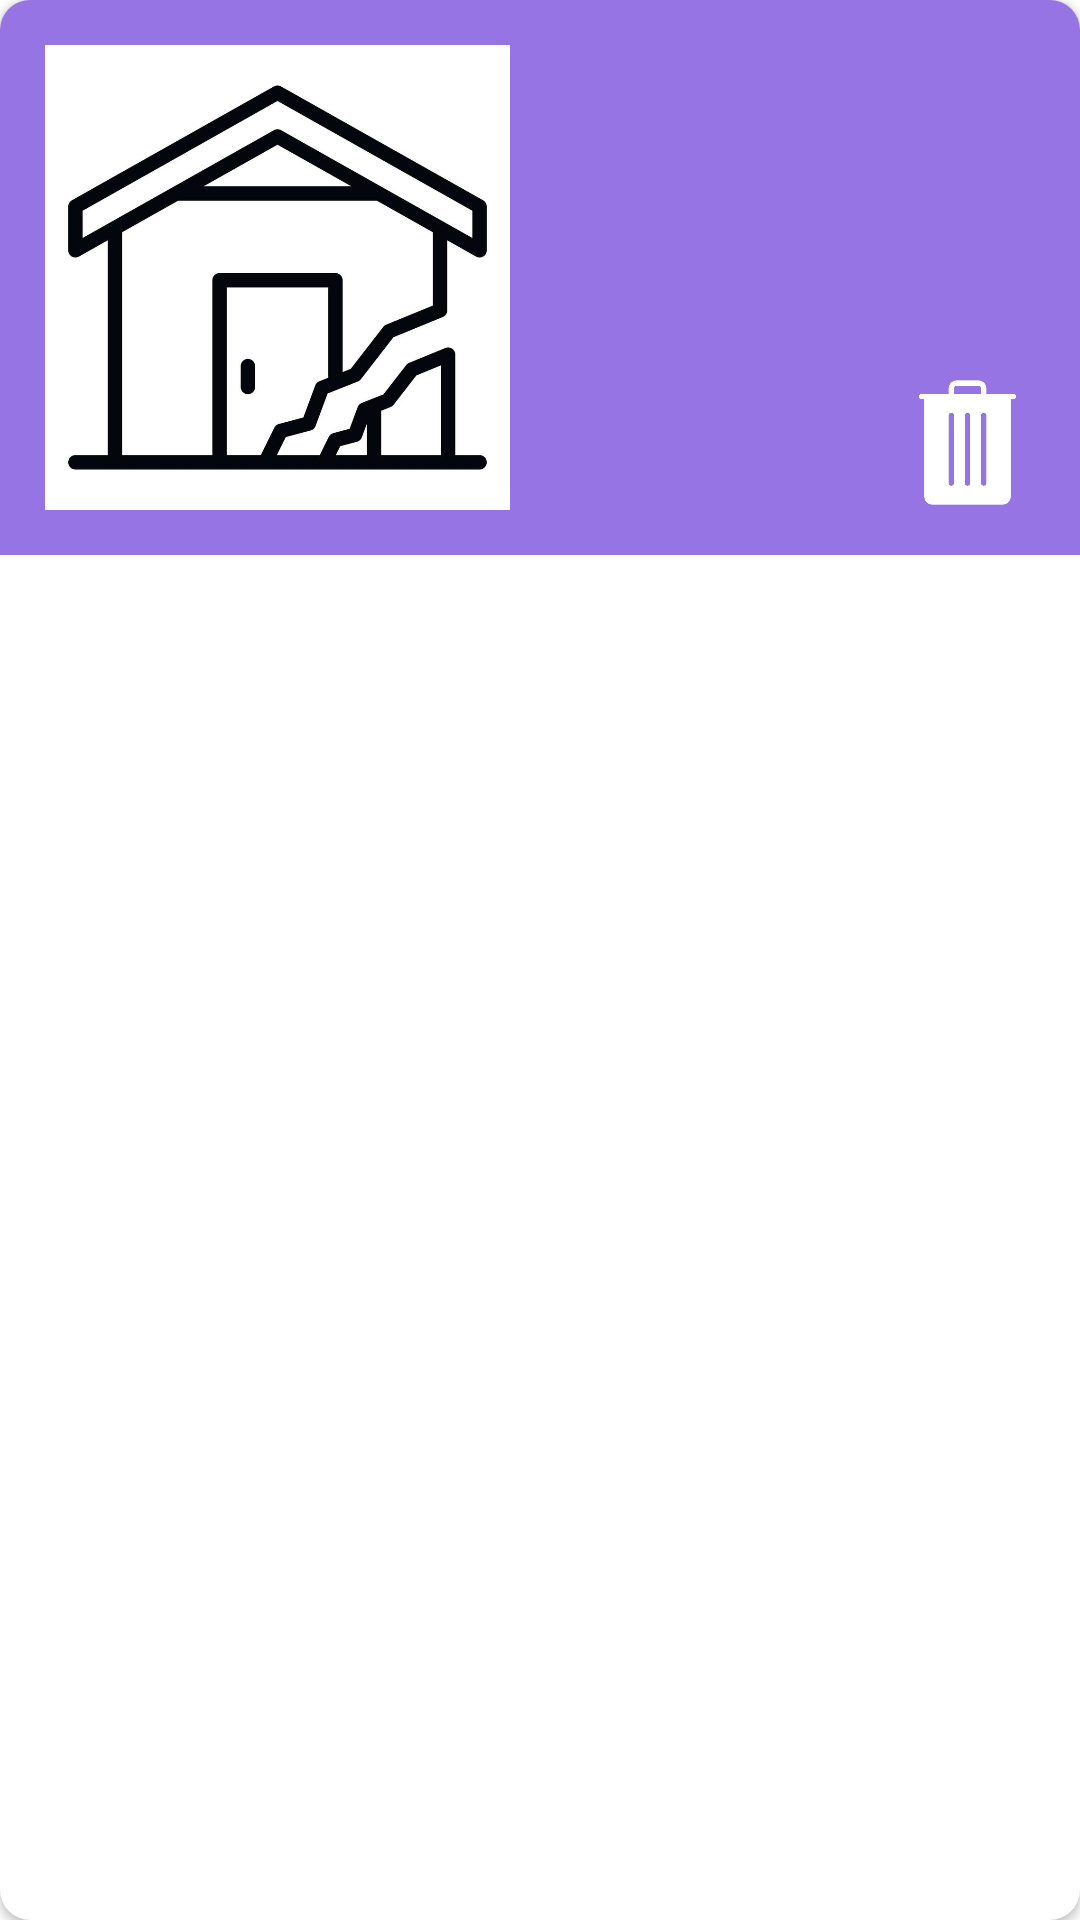

Screen size 1080w x 1920h. Icon name, then its box in pixels as (x1=x1, y1=y1, x2=x2, y2=y2):
trash: (x1=919, y1=380, x2=1016, y2=505)
